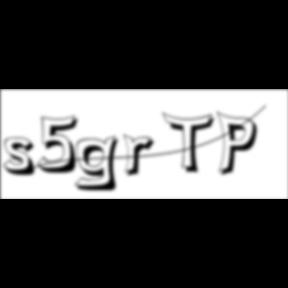5: (37, 114, 84, 176)
P: (216, 110, 264, 180)
T: (162, 112, 220, 176)
g: (74, 134, 126, 194)
r: (123, 134, 161, 180)
s: (3, 137, 42, 179)
